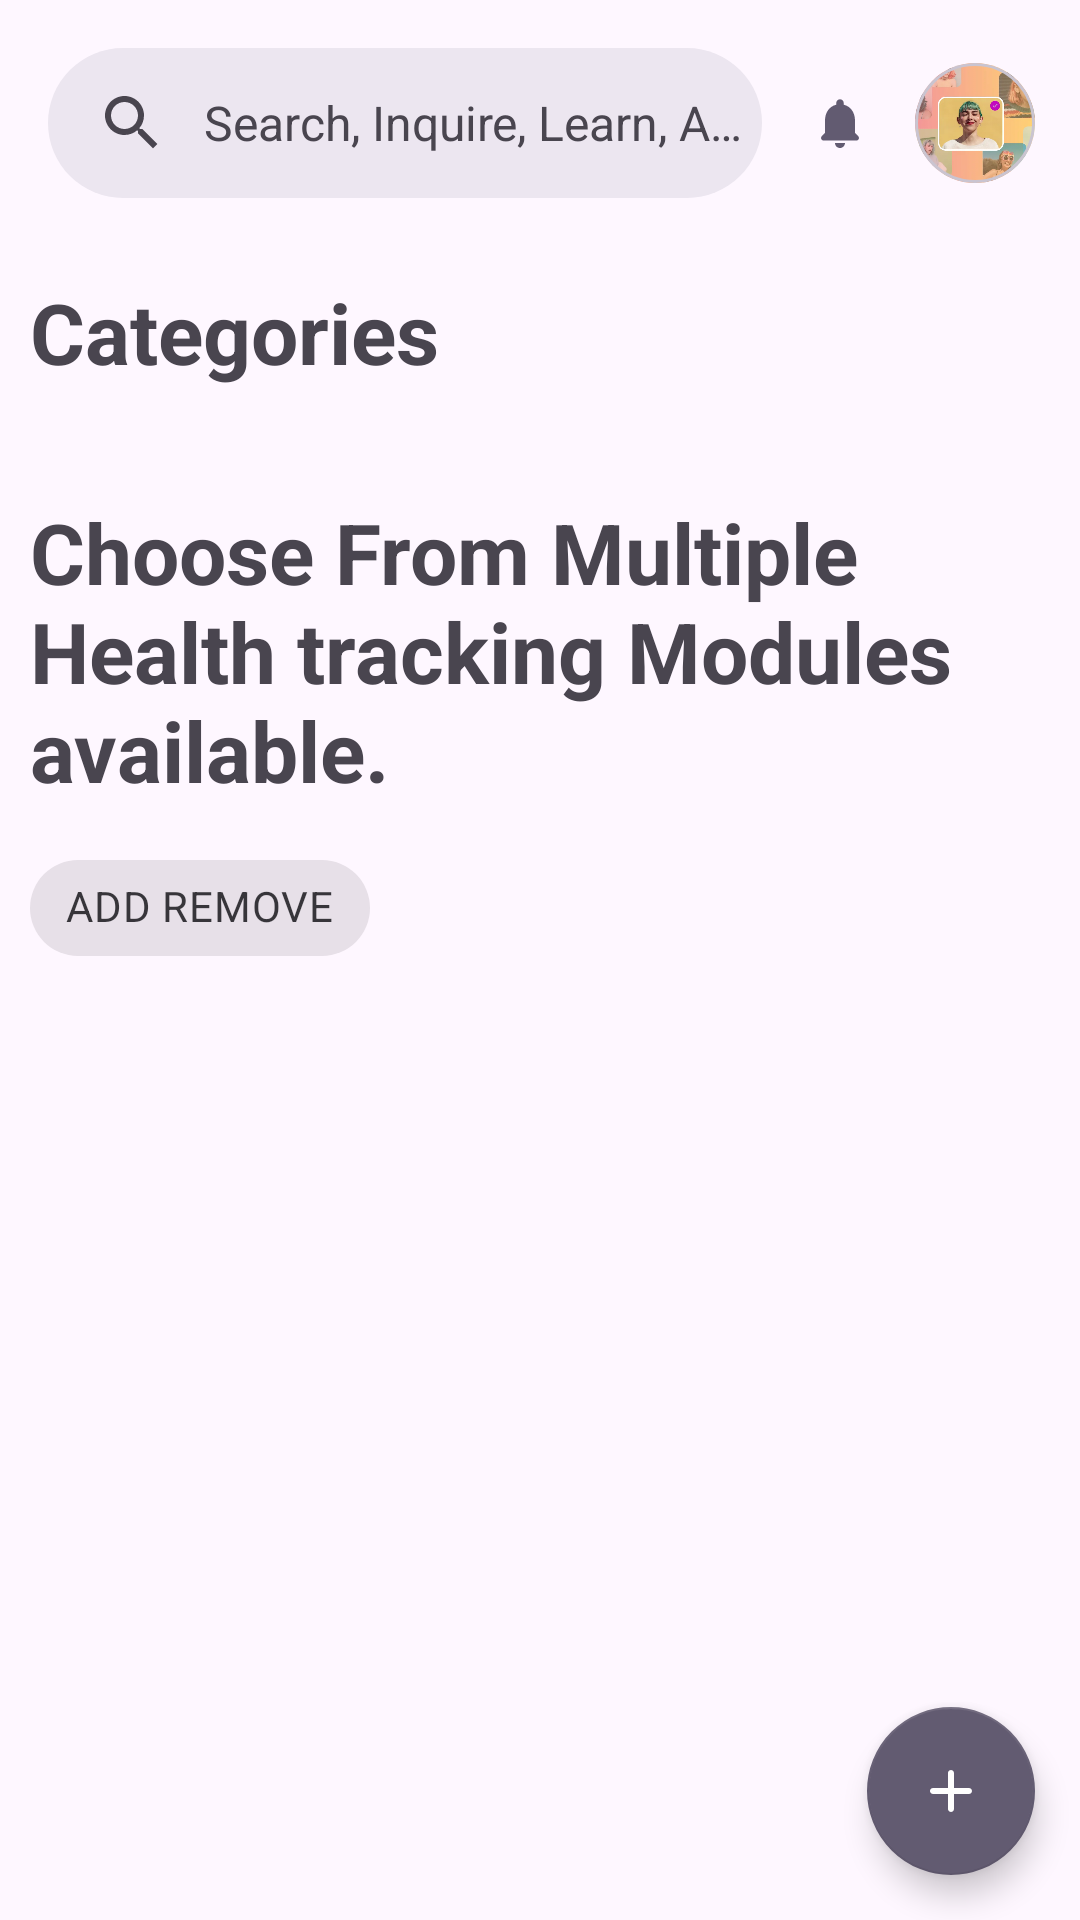

Screen size 1080 × 1920. Icon name, then its center in pixels as point (x, y):
add: point (951, 1791)
notifications: point (840, 123)
